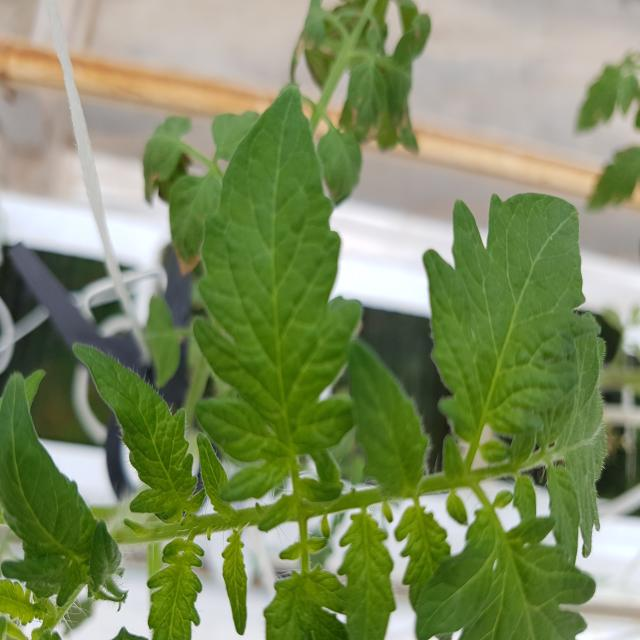Healthy Leaf: (197, 83, 364, 465), (425, 193, 586, 444), (419, 516, 597, 640), (75, 344, 197, 520), (1, 373, 102, 563), (339, 516, 397, 640), (148, 543, 205, 640), (225, 542, 248, 636)
